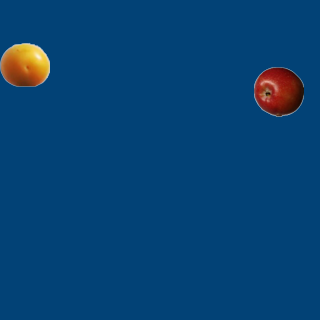Apple Braeburn: (253, 66, 303, 116)
Cherry Wax Yellow: (0, 39, 49, 89)
